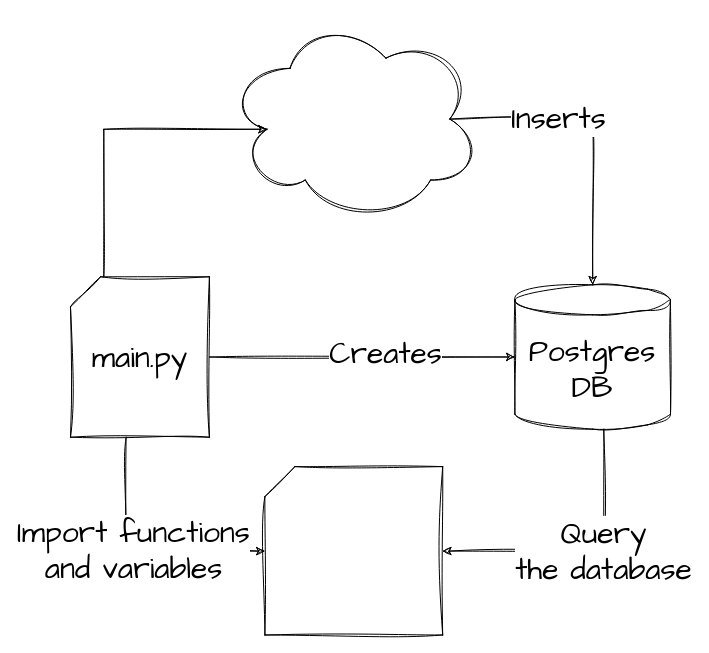
Some shapes in this 709 by 653 pixel diagram are drawn without their labels. Each missing label, with the centre of its shape:
"data.csv" belongs at (353,118).
"Our Notebook" belongs at (353,550).
